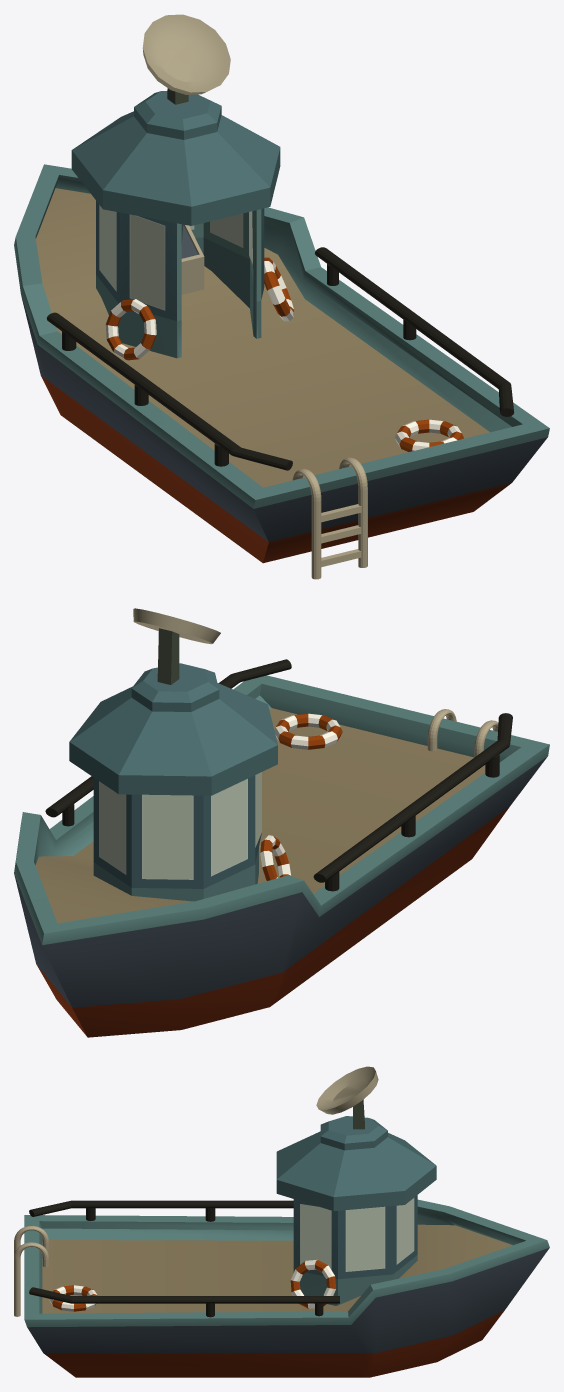
File: korabl.fbx
3 renders of one model, top to bottom at view 1: azimuth 30°, elevation 25°; view 2: azimuth 150°, elevation 25°; view 3: azimuth 270°, elevation 25°, orthographic. The views are drawn at different scales.
Parts seen in each view (by area): view 1: Cube, Cube.004, Cube.002, Cube.001, Cube.005, Cube.003; view 2: Cube, Cube.005, Cube.002, Cube.004; view 3: Cube, Cube.004, Cube.003, Cube.005.
Part boxes in pixels (left/top/right/bottom): Cube: left=14, top=14, right=549, bottom=563; Cube.004: left=292, top=457, right=367, bottom=579; Cube.002: left=105, top=299, right=156, bottom=360; Cube.001: left=181, top=224, right=204, bottom=294; Cube.005: left=395, top=419, right=463, bottom=451; Cube.003: left=264, top=257, right=293, bottom=321; Cube: left=14, top=608, right=549, bottom=1037; Cube.005: left=274, top=713, right=342, bottom=749; Cube.002: left=260, top=835, right=290, bottom=880; Cube.004: left=427, top=709, right=498, bottom=757; Cube: left=24, top=1066, right=549, bottom=1377; Cube.004: left=14, top=1226, right=48, bottom=1316; Cube.003: left=290, top=1259, right=336, bottom=1309; Cube.005: left=49, top=1285, right=97, bottom=1311.
Bounding box in the file's own units: 839 × 1008 × 1814.
